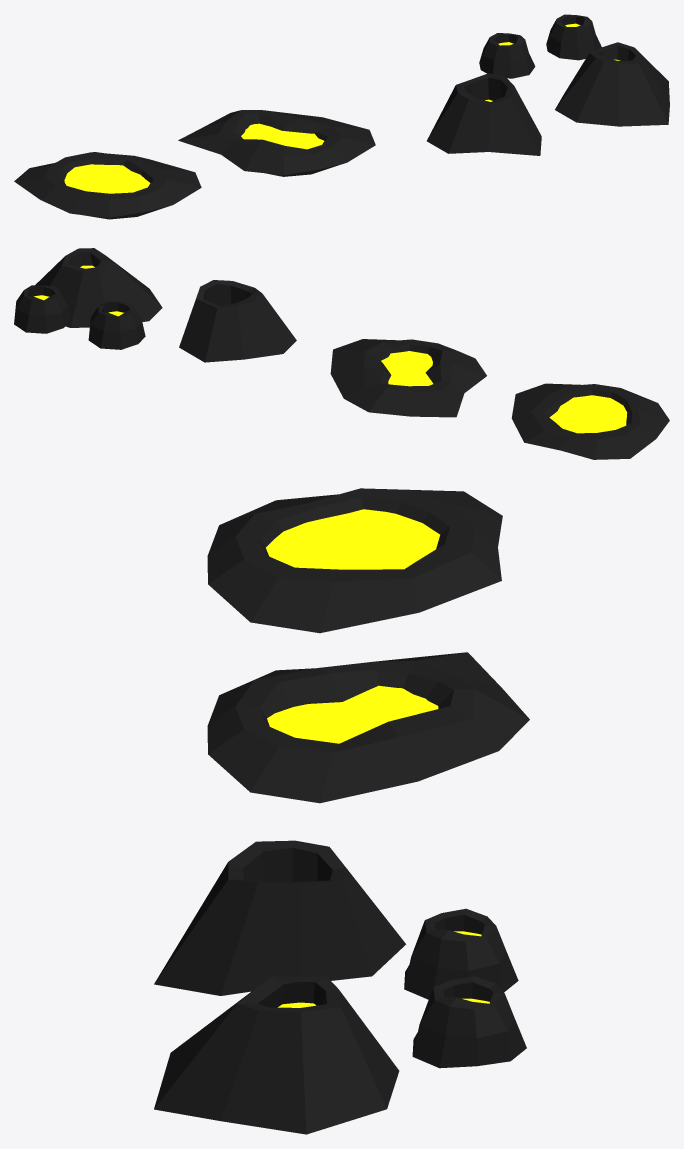
File: volcanoes.fbx
The picture shows the model from 3 angles, top to bottom: view 1: azimuth 30°, elevation 25°; view 2: azimuth 150°, elevation 25°; view 3: azimuth 270°, elevation 25°; orthographic projection. The views are drawn at different scales.
Parts seen in each view (by area): view 1: volcano_02, volcano_06, volcano_01, volcano_04, volcano_01b, volcano_03, volcano_05, volcano_02b; view 2: volcano_02, volcano_01, volcano_04, volcano_06, volcano_01b, volcano_05, volcano_03, volcano_02b; view 3: volcano_02, volcano_06, volcano_01, volcano_04, volcano_01b, volcano_05, volcano_03, volcano_02b.
Boxes of the visible parts, x1=… form: volcano_02: x1=178, y1=110, x2=375, y2=176; volcano_06: x1=555, y1=42, x2=669, y2=126; volcano_01: x1=14, y1=152, x2=201, y2=219; volcano_04: x1=427, y1=73, x2=541, y2=155; volcano_01b: x1=64, y1=164, x2=150, y2=193; volcano_03: x1=479, y1=33, x2=535, y2=78; volcano_05: x1=546, y1=14, x2=601, y2=60; volcano_02b: x1=241, y1=123, x2=324, y2=149; volcano_02: x1=330, y1=339, x2=486, y2=417; volcano_01: x1=511, y1=383, x2=669, y2=459; volcano_04: x1=179, y1=280, x2=296, y2=362; volcano_06: x1=35, y1=248, x2=162, y2=327; volcano_01b: x1=549, y1=395, x2=627, y2=433; volcano_05: x1=14, y1=285, x2=70, y2=333; volcano_03: x1=88, y1=301, x2=145, y2=349; volcano_02b: x1=381, y1=351, x2=433, y2=386; volcano_02: x1=207, y1=652, x2=529, y2=803; volcano_06: x1=154, y1=976, x2=399, y2=1134; volcano_01: x1=207, y1=488, x2=502, y2=633; volcano_04: x1=154, y1=840, x2=405, y2=995; volcano_01b: x1=266, y1=509, x2=439, y2=569; volcano_05: x1=412, y1=976, x2=526, y2=1068; volcano_03: x1=404, y1=908, x2=518, y2=999; volcano_02b: x1=267, y1=685, x2=438, y2=743.
Bounding box in the file's own units: 1532 × 124 × 406.
